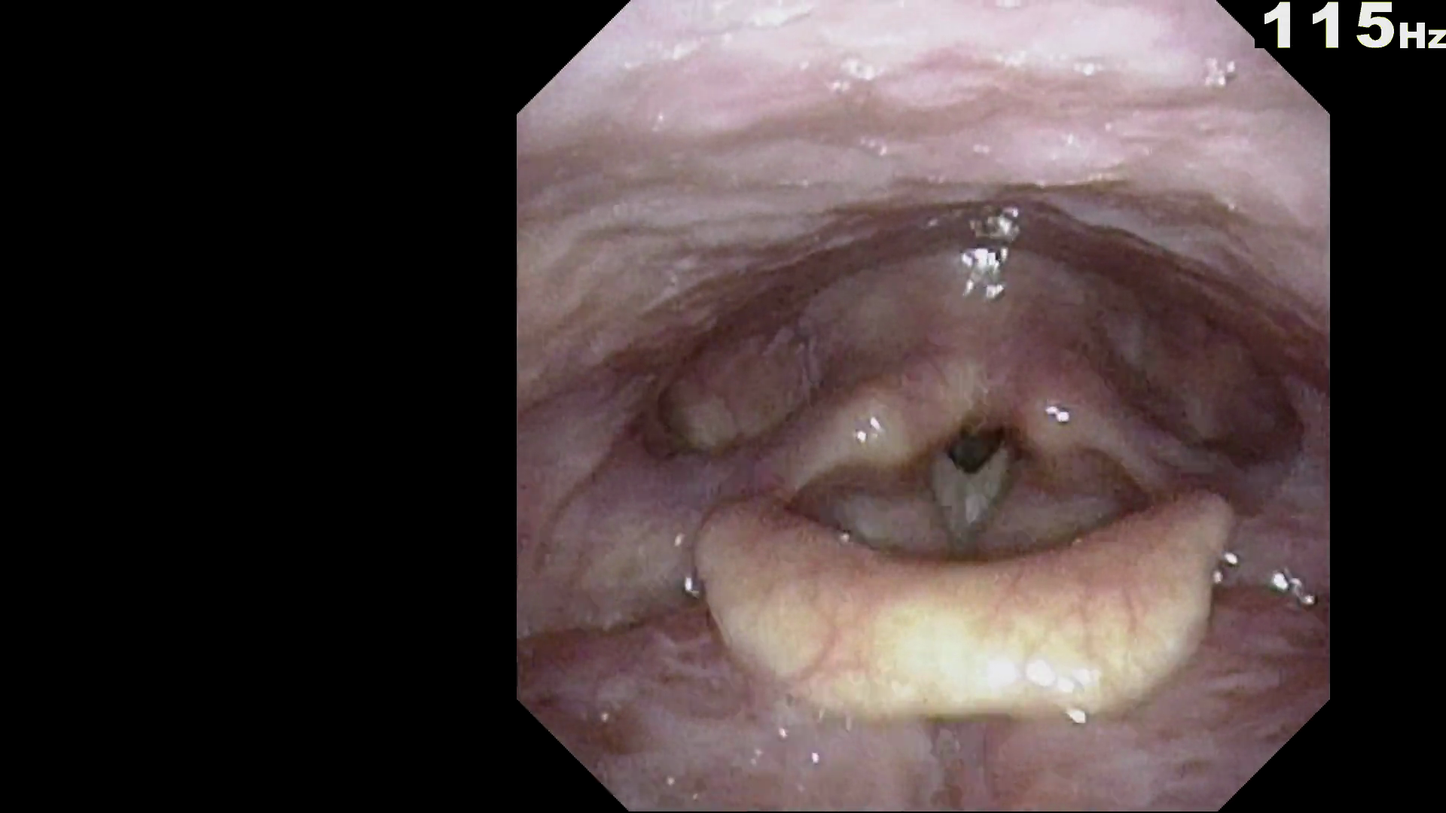epiglottis: (676, 476, 1266, 720)
trachea: (916, 423, 1033, 561)
